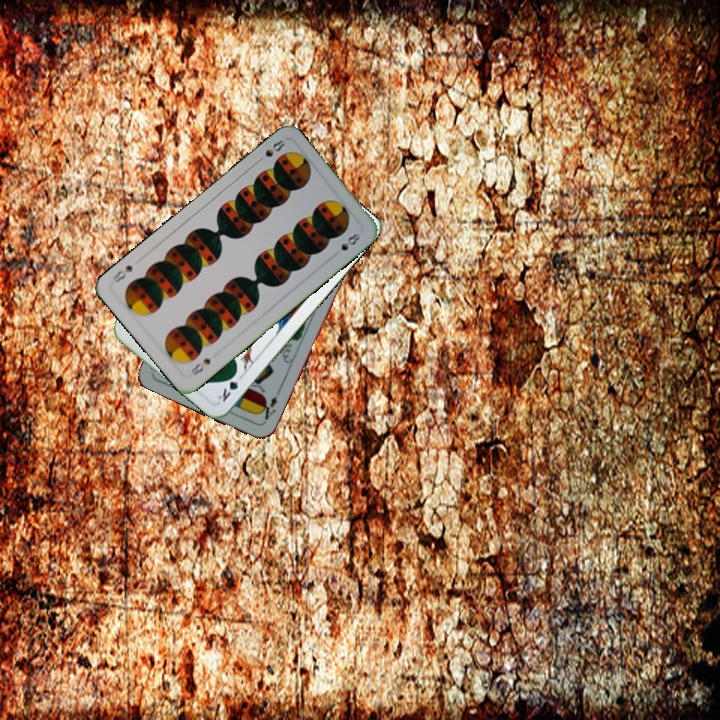EA: (255, 392, 280, 426)
GK: (214, 368, 246, 405)
S8: (253, 135, 288, 166), (187, 354, 214, 378)
